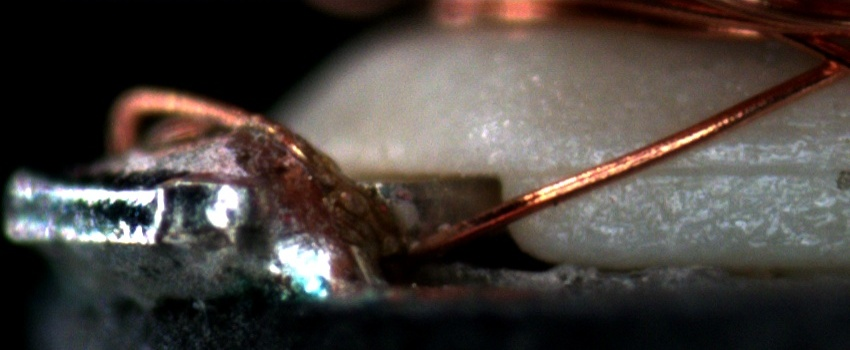CL: (794, 35, 850, 88)
DL: (513, 139, 850, 203)
TE: (103, 82, 307, 160)
